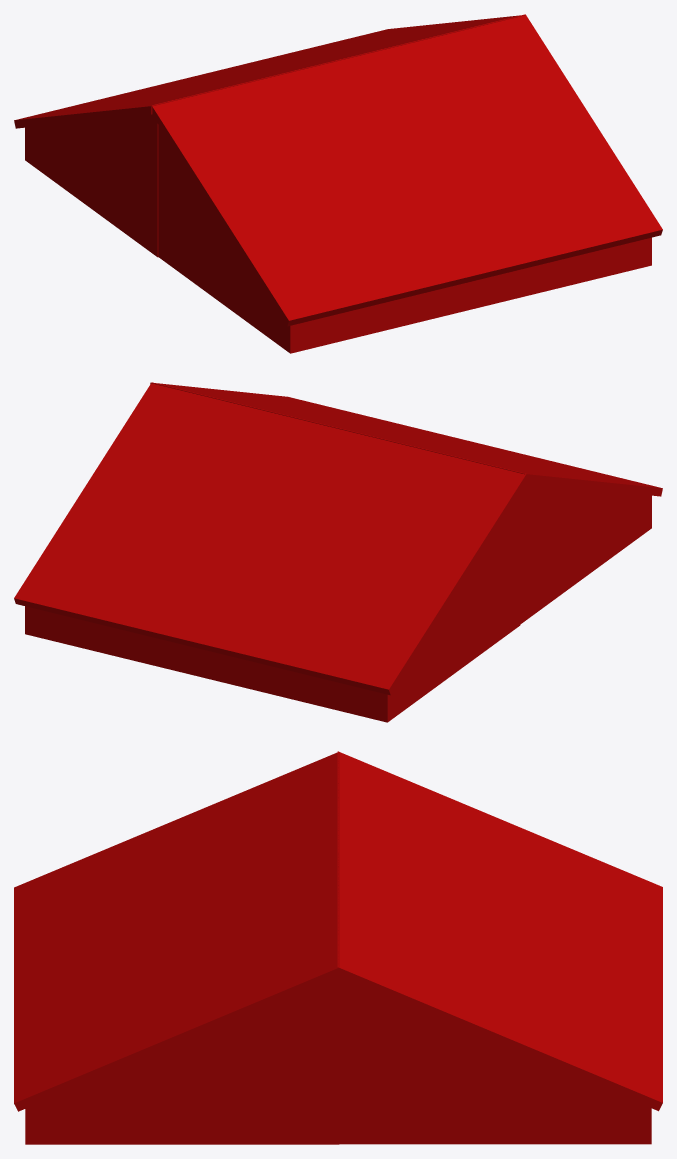
File: double-slanted-garage-roof.fbx
3 renders of one model, top to bottom at view 1: azimuth 30°, elevation 25°; view 2: azimuth 150°, elevation 25°; view 3: azimuth 270°, elevation 25°, orthographic. The views are drawn at different scales.
Parts seen in each view (by area): view 1: double_slanted_garage_roof_piece1, double_slanted_garage_roof_piece; view 2: double_slanted_garage_roof_piece, double_slanted_garage_roof_piece1; view 3: double_slanted_garage_roof_piece1, double_slanted_garage_roof_piece.
Boxes of the visible parts, left/top/right/bottom form: double_slanted_garage_roof_piece1: left=151, top=14, right=662, bottom=353; double_slanted_garage_roof_piece: left=14, top=15, right=524, bottom=257; double_slanted_garage_roof_piece: left=14, top=382, right=526, bottom=722; double_slanted_garage_roof_piece1: left=150, top=382, right=662, bottom=624; double_slanted_garage_roof_piece1: left=14, top=752, right=339, bottom=1144; double_slanted_garage_roof_piece: left=337, top=751, right=662, bottom=1144.
Bounding box in the file's own units: 4.76 × 1.85 × 6.03.
